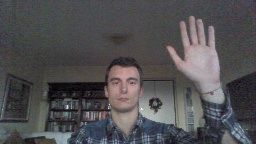Mano_aperta: (163, 12, 221, 92)
